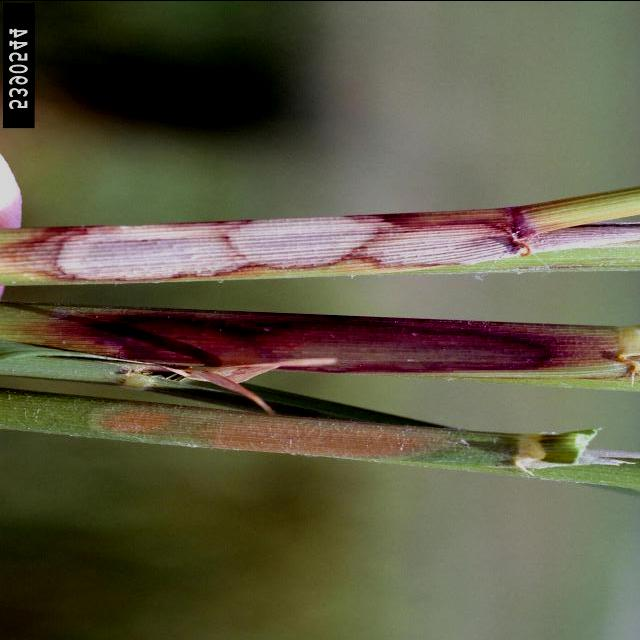Bacterial_Leaf_Blight: (0, 206, 640, 282), (38, 304, 640, 374), (87, 399, 452, 462)
